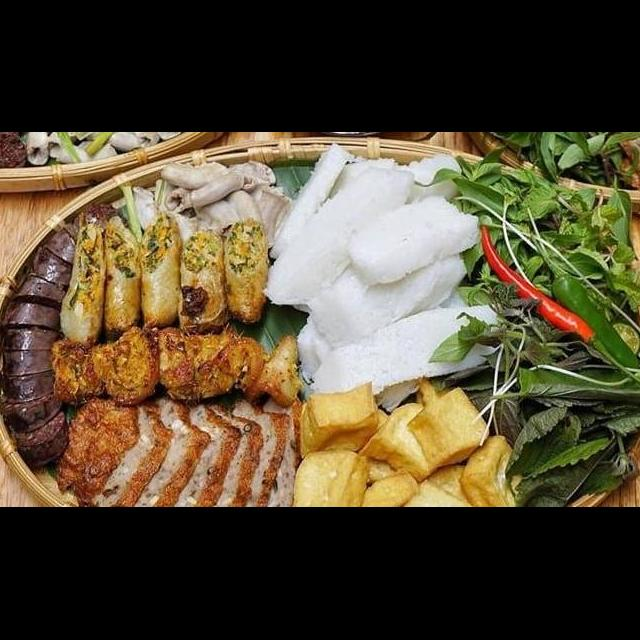bun: (259, 136, 517, 424)
bun dau: (0, 173, 632, 504)
cha com: (47, 386, 305, 508), (49, 328, 306, 411)
cha gio: (168, 216, 233, 342), (215, 205, 274, 332), (132, 204, 188, 336), (55, 215, 110, 348), (97, 204, 143, 336)
dau hu: (285, 370, 533, 508)
doi sun: (0, 213, 90, 477)
